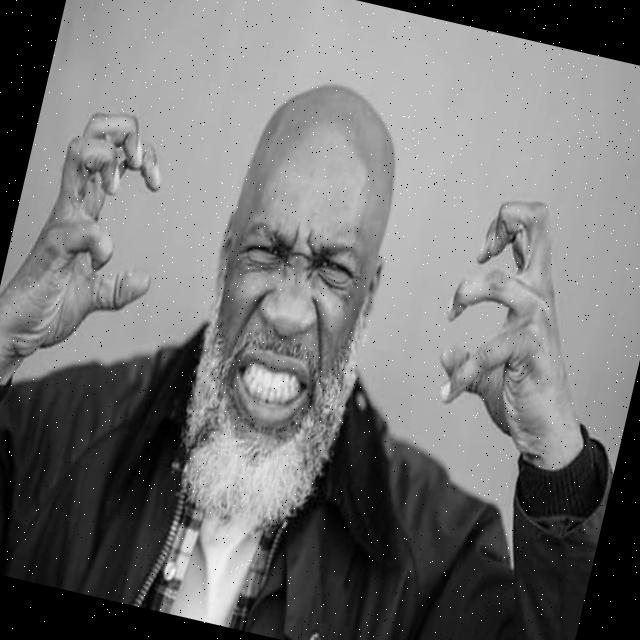Angry: (172, 122, 400, 533)
